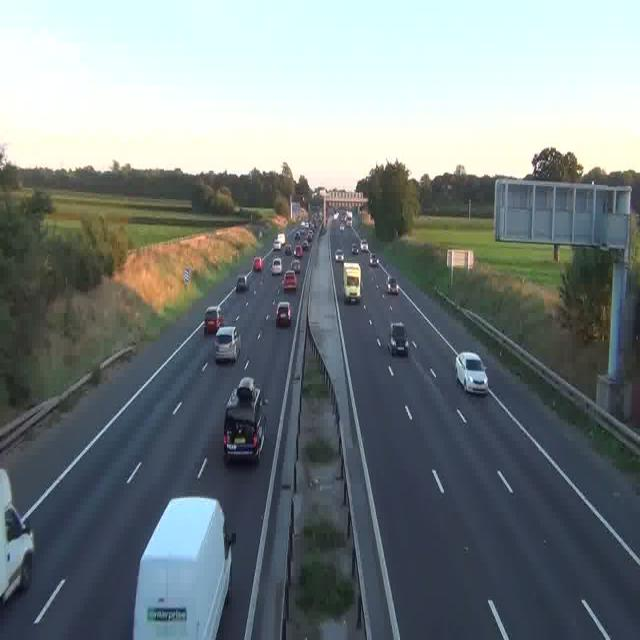car: (134, 496, 232, 639), (223, 377, 264, 462), (455, 352, 488, 394), (215, 325, 240, 362), (388, 322, 408, 354), (203, 306, 223, 335), (275, 300, 292, 326), (285, 272, 298, 291), (386, 274, 398, 293), (237, 273, 249, 292), (271, 260, 283, 276), (290, 258, 302, 274), (254, 256, 264, 271), (334, 249, 344, 262), (372, 253, 380, 266), (298, 243, 307, 254), (359, 241, 367, 252)
truck: (0, 468, 34, 606), (341, 261, 364, 304), (276, 232, 286, 250)
